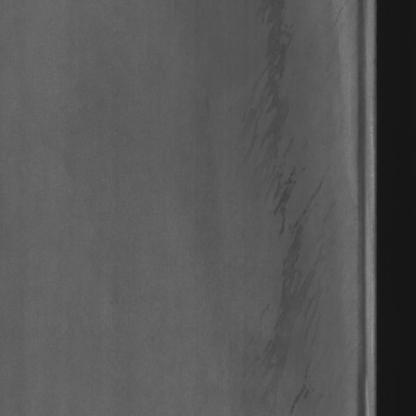water_spot: (237, 0, 328, 411)
